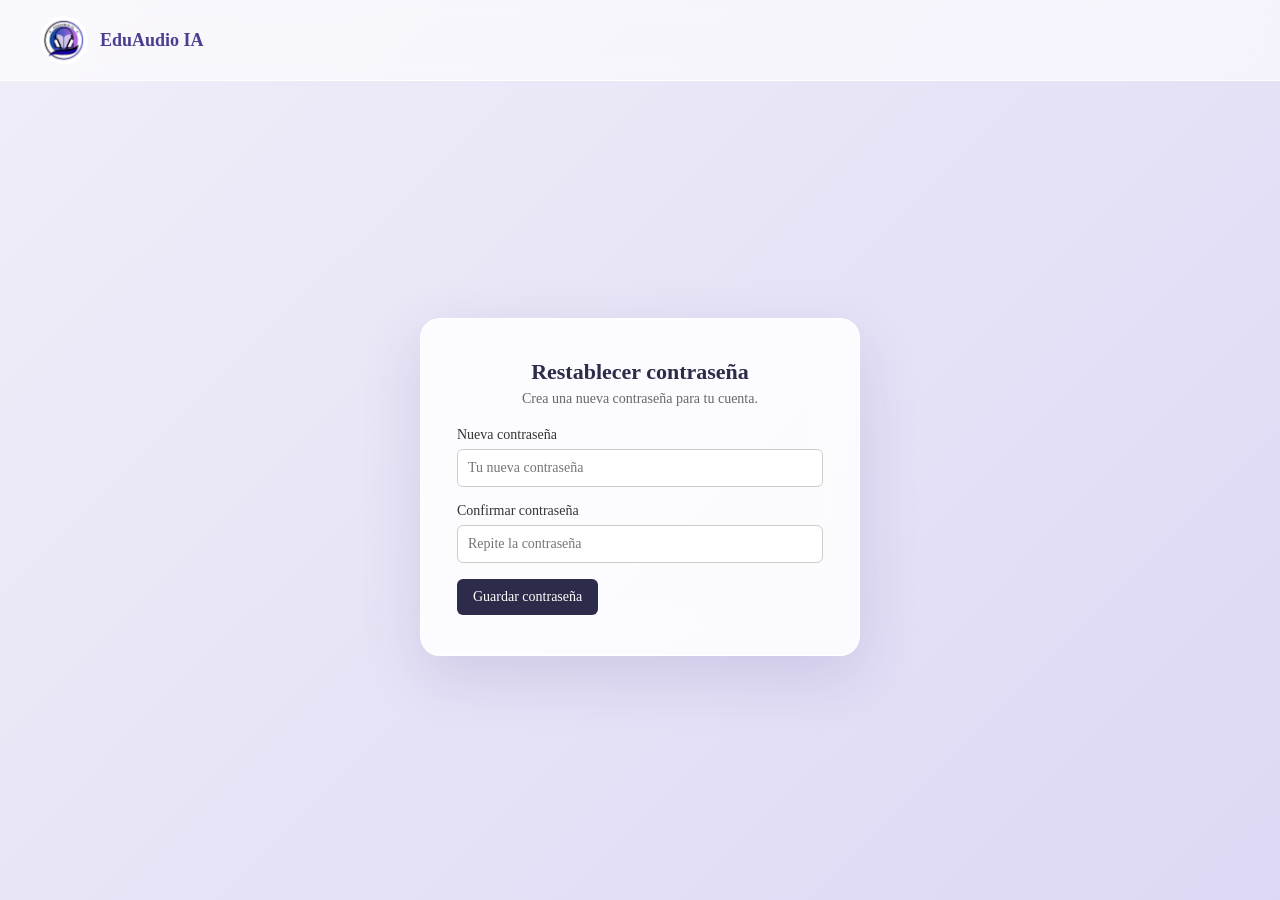
ResetPassword › muestra error cuando las contraseñas no coinciden
Type "password123" into the password field with placeholder "Tu nueva contraseña" at (640, 468), box [457,448,823,486]
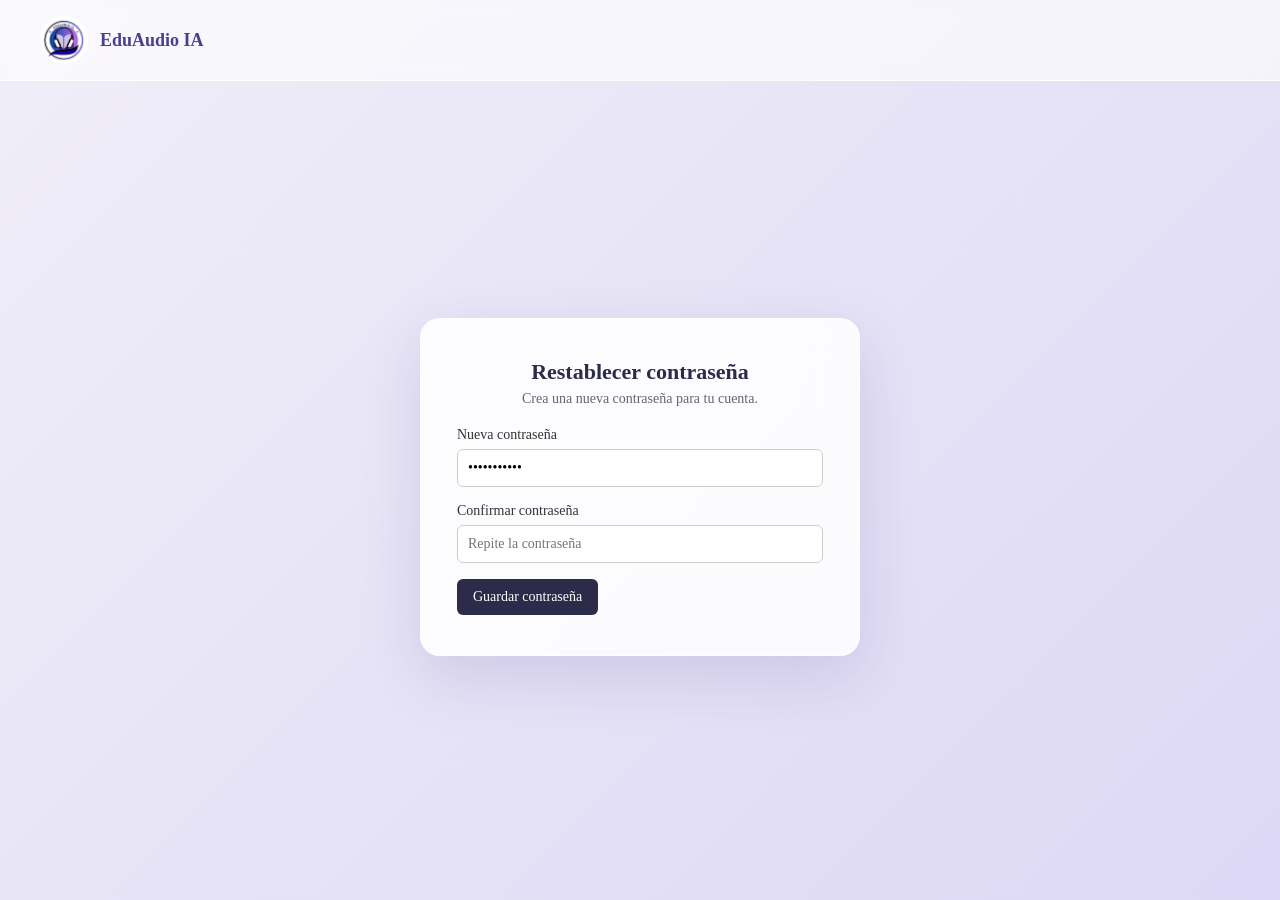
Type "password456" into the password field with placeholder "Repite la contraseña" at (640, 544), box [457,524,823,562]
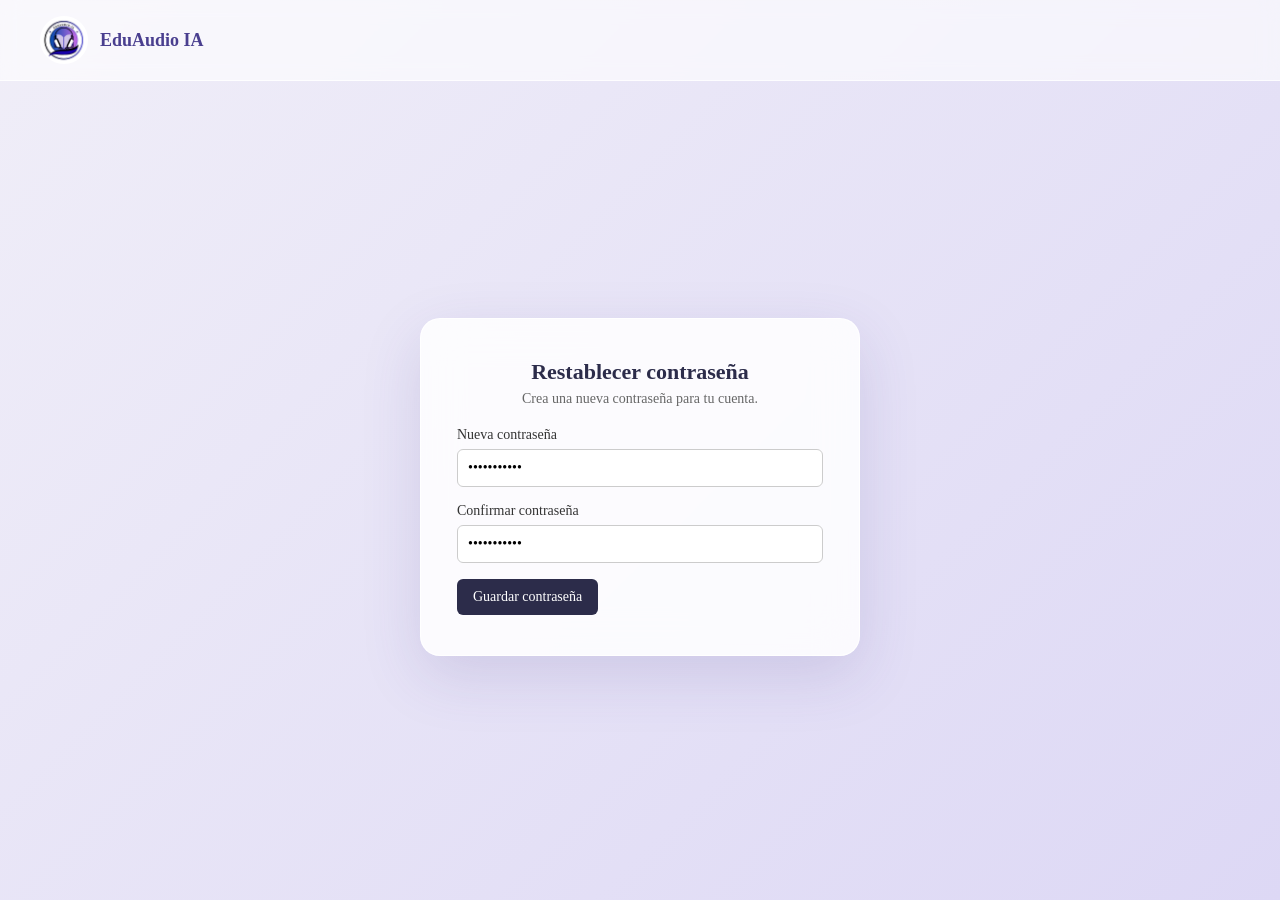
Click the button "Guardar contraseña" at (528, 596), box [457,578,598,614]
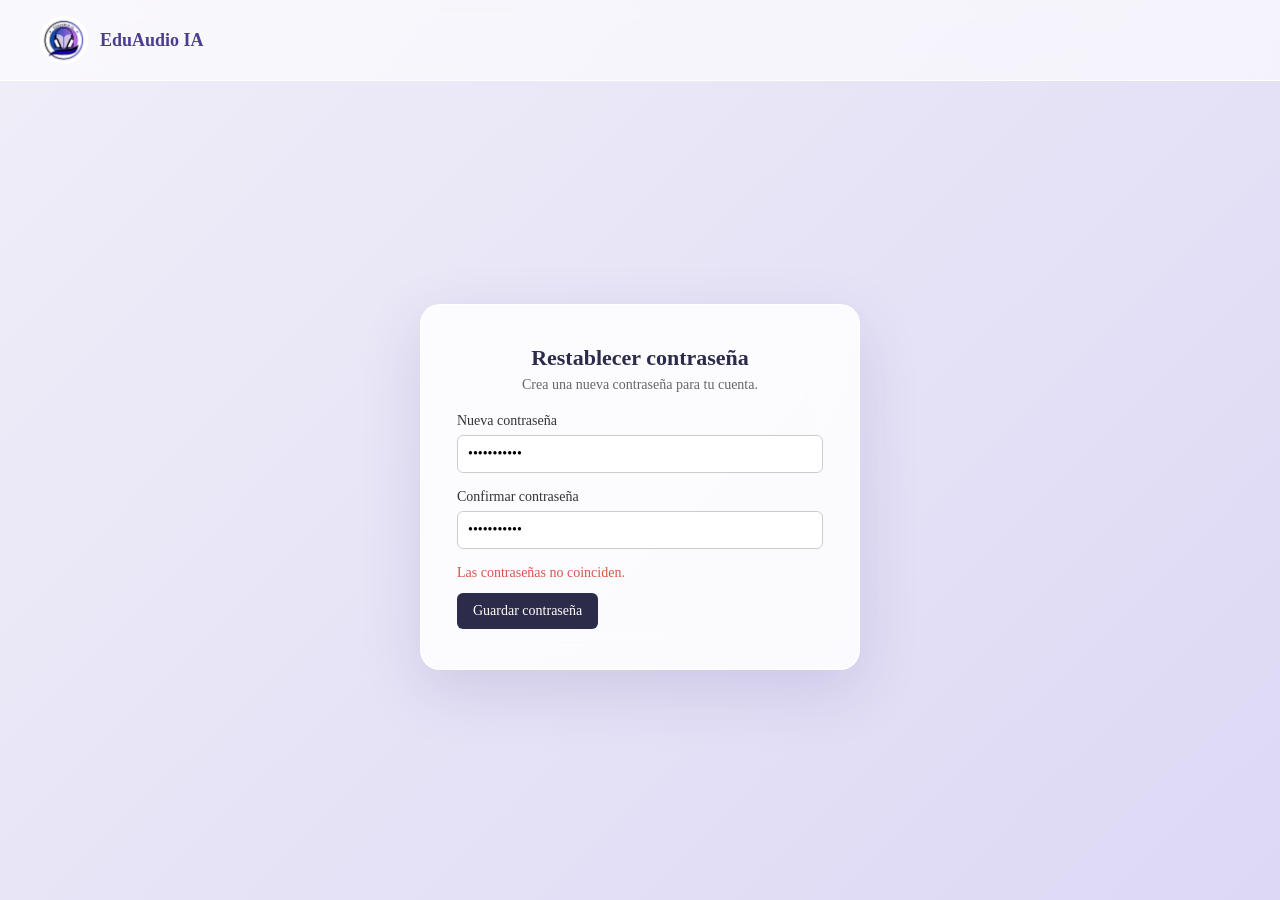
Now the text "Las contraseñas no coinciden." is shown, box [457,564,625,580]
